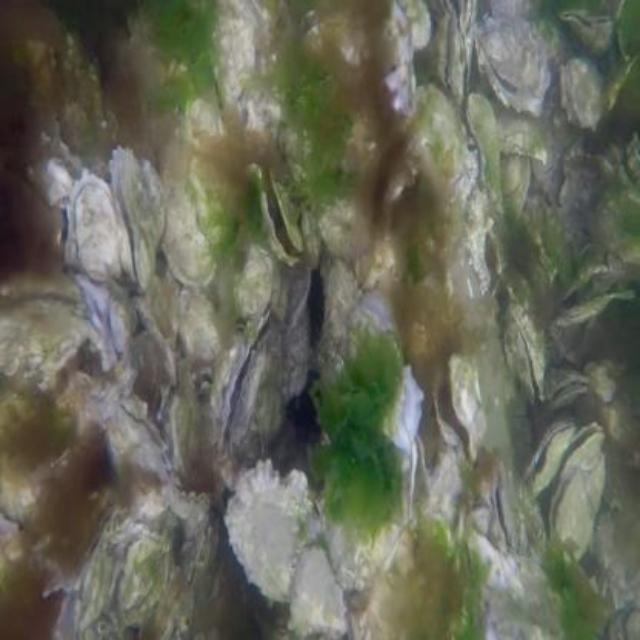Oyster-Closed: (217, 460, 349, 640), (198, 0, 300, 152), (370, 516, 478, 640), (401, 88, 479, 215), (153, 151, 220, 291), (366, 0, 419, 120), (464, 89, 504, 200)
Oyster-Open: (322, 330, 422, 574), (64, 486, 212, 640), (0, 271, 94, 389), (210, 314, 272, 472), (545, 422, 607, 566), (105, 138, 162, 284), (476, 8, 552, 112), (109, 394, 190, 488), (251, 160, 319, 268), (67, 161, 126, 285), (432, 354, 488, 466), (78, 272, 142, 366), (424, 0, 478, 100), (558, 258, 634, 328), (503, 297, 549, 407), (483, 456, 535, 552), (224, 238, 282, 324), (521, 418, 575, 500), (415, 427, 463, 515), (556, 55, 606, 129), (464, 213, 508, 294), (149, 381, 187, 461), (563, 10, 613, 54), (550, 367, 588, 409)
